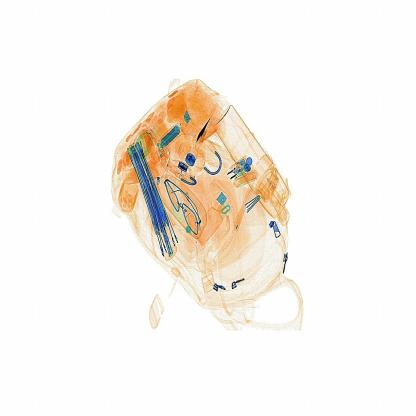wrench: (191, 116, 218, 154)
